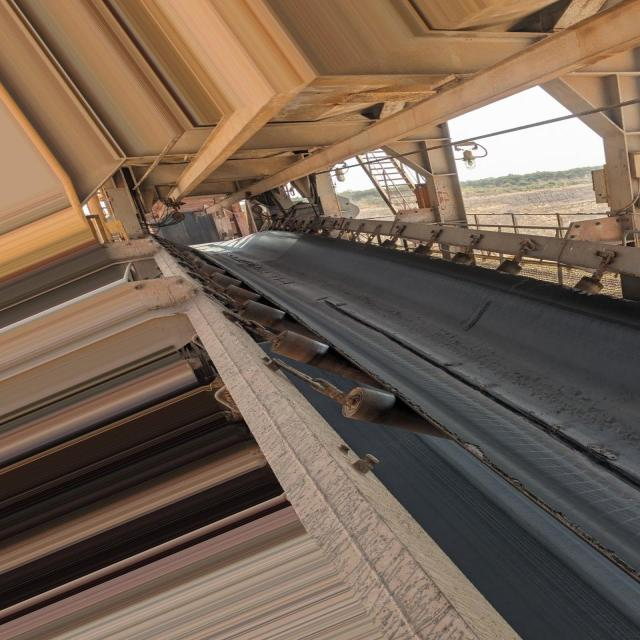Roller: (269, 328, 373, 387), (340, 388, 447, 442)
Tear: (329, 298, 640, 490)
